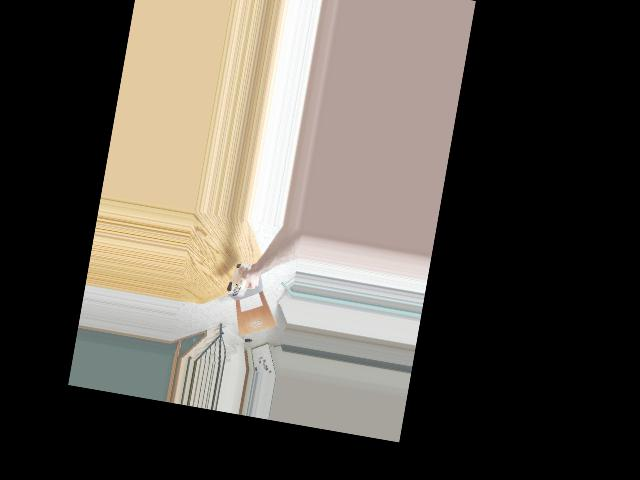cheese: (226, 260, 253, 297)
